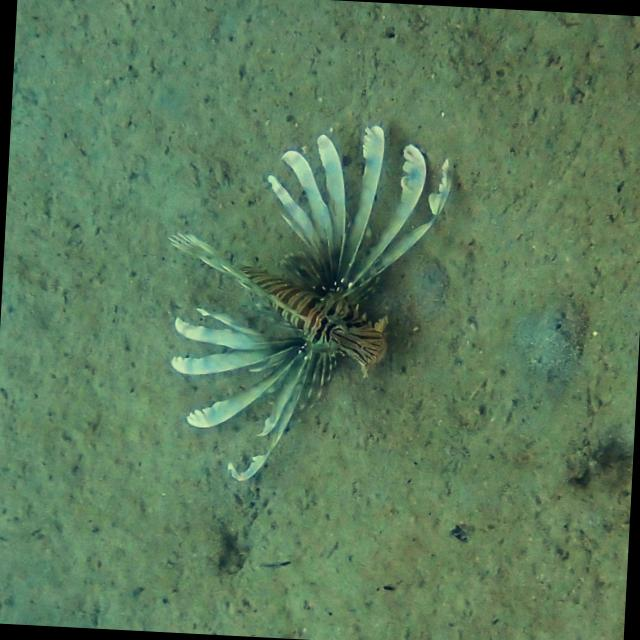Aslan Baligi: (153, 112, 458, 492)
